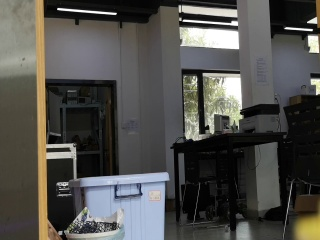room: (9, 3, 320, 238)
